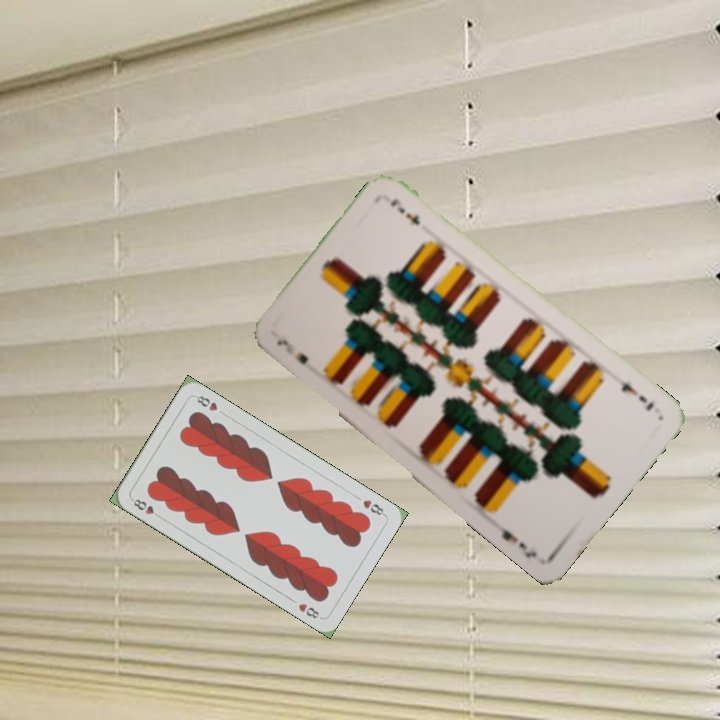E7: (614, 374, 657, 413), (272, 335, 311, 368)
H8: (128, 494, 164, 521), (359, 495, 388, 518)
